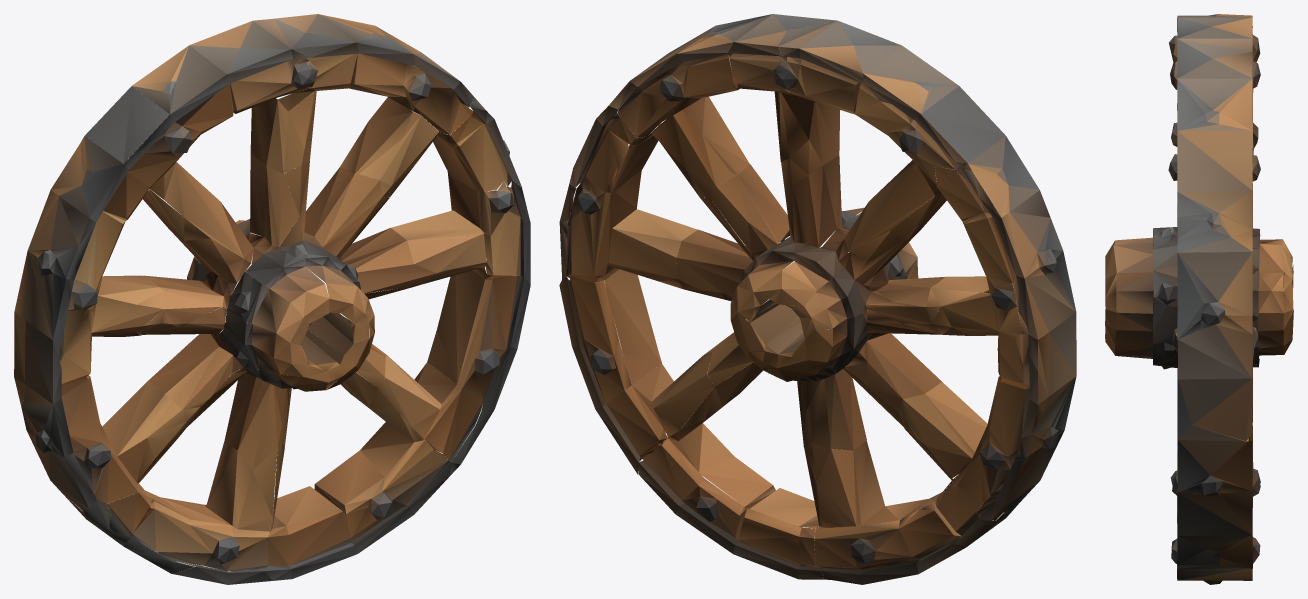
The model's file is building-cart-wheel.glb.
The picture shows the model from 3 angles, left to right: view 1: azimuth 30°, elevation 25°; view 2: azimuth 150°, elevation 25°; view 3: azimuth 270°, elevation 25°; orthographic projection. The views are drawn at different scales.
Parts seen in each view (by area): view 1: 0_cart-wheel; view 2: 0_cart-wheel; view 3: 0_cart-wheel.
Part boxes in pixels (x1,y1,x2,y2): 0_cart-wheel: [14, 14, 530, 584]; 0_cart-wheel: [559, 14, 1076, 584]; 0_cart-wheel: [1105, 14, 1293, 584].
Size of the model in its own units: 0.6609 by 0.7 by 0.2316.
